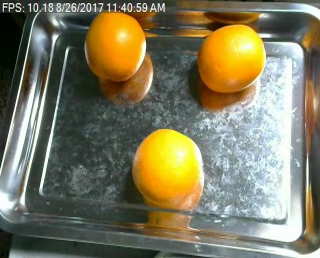Orange: (132, 127, 202, 206), (198, 22, 266, 92), (85, 10, 146, 81)
